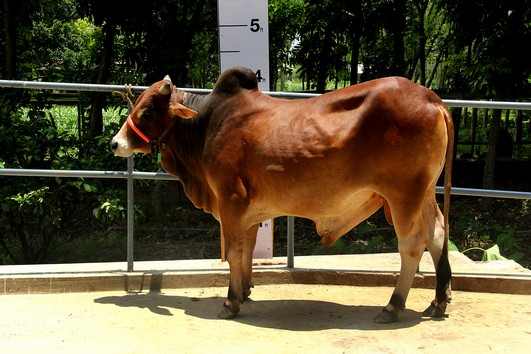cow: (103, 63, 465, 329)
